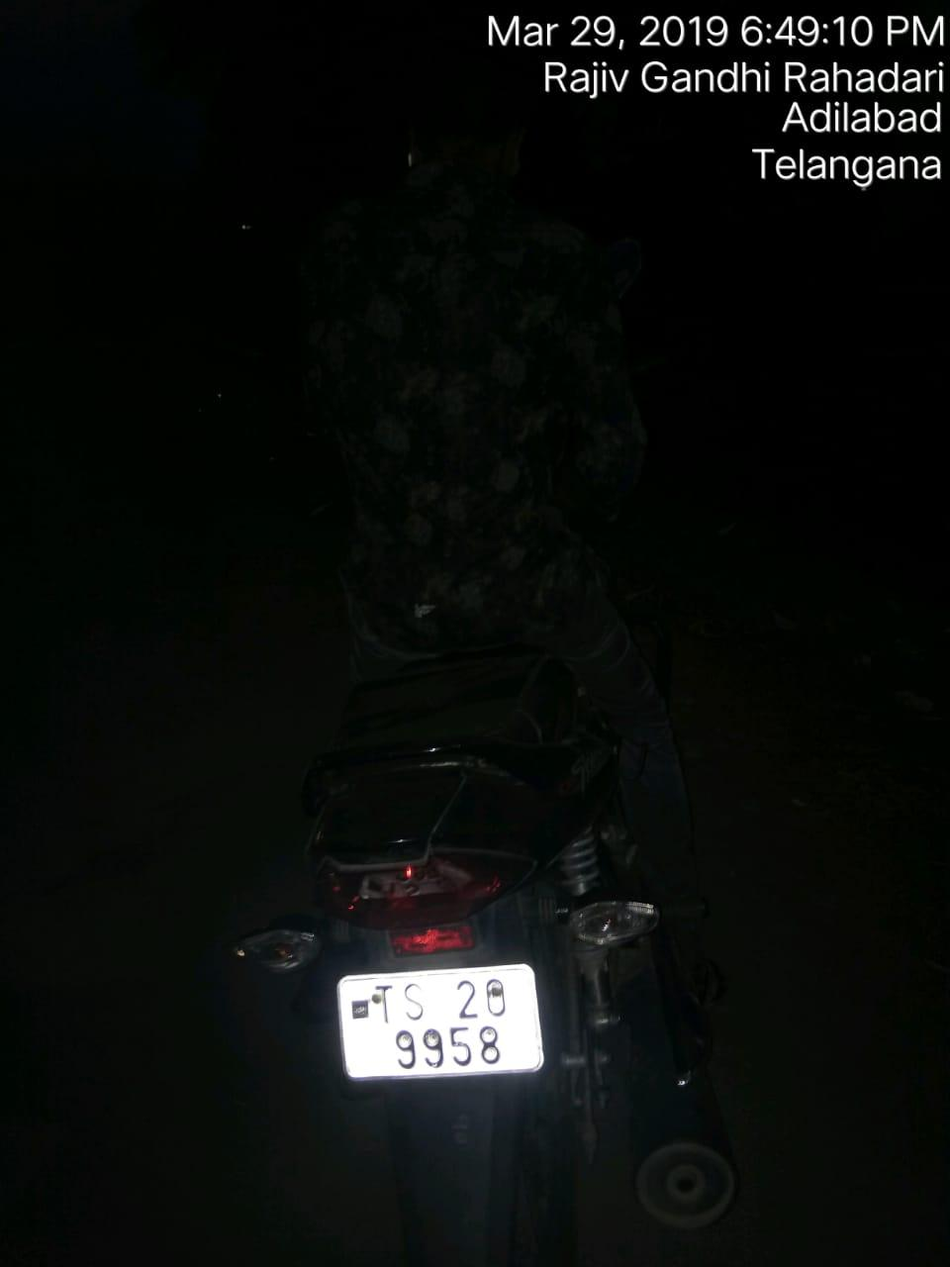plate: (322, 946, 558, 1087)
